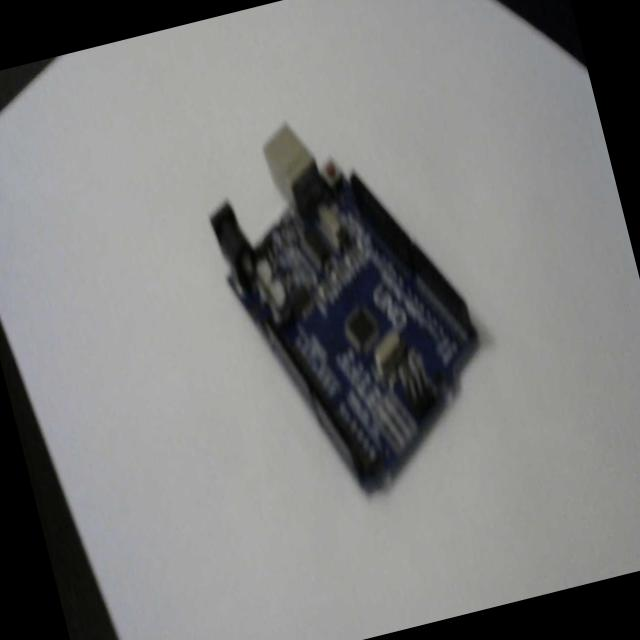arduino: (187, 88, 516, 524)
